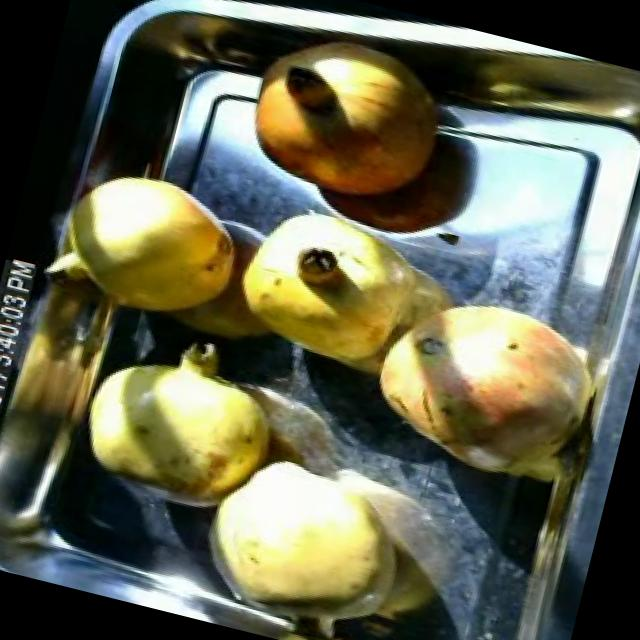fruit: (346, 264, 621, 498), (178, 429, 438, 640), (64, 312, 305, 534), (228, 11, 470, 230), (221, 186, 447, 386), (40, 152, 264, 340)
